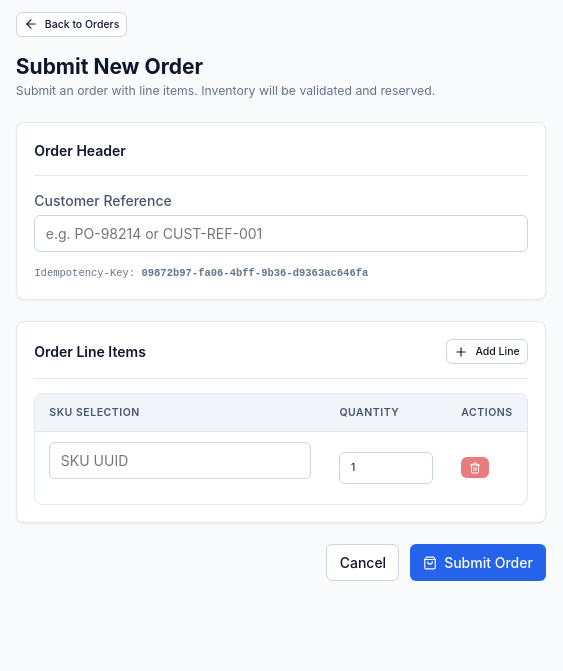
it: CreateOrderPage › allows adding and removing line items
The image size is (563, 671).
Click the button "Add Line".
click(487, 352)  # box top-left (446, 339), bottom-right (528, 364)
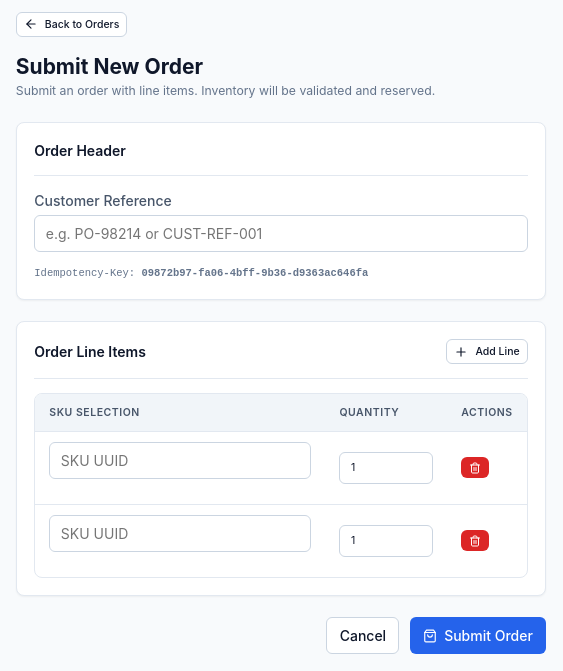
Expected: the number of buttons titled "Remove line" is 2
Click the 2nd button titled "Remove line".
click(475, 541)  # box top-left (461, 530), bottom-right (489, 551)
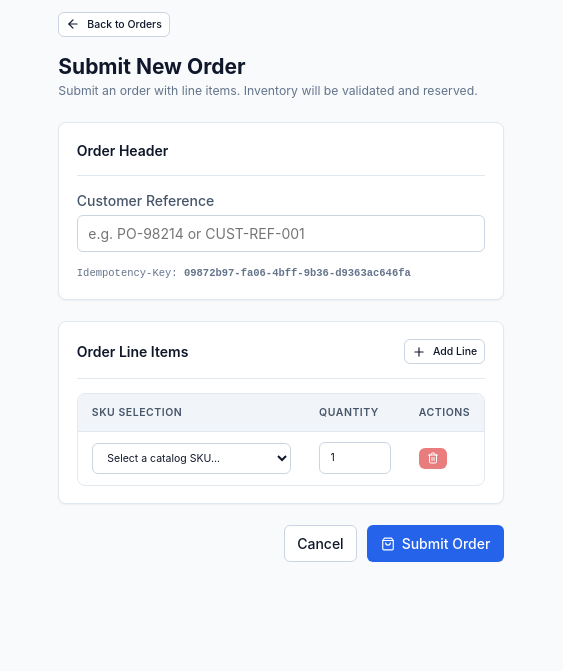
Expected: the number of buttons titled "Remove line" is 1, top-left (419, 448), bottom-right (447, 468)
